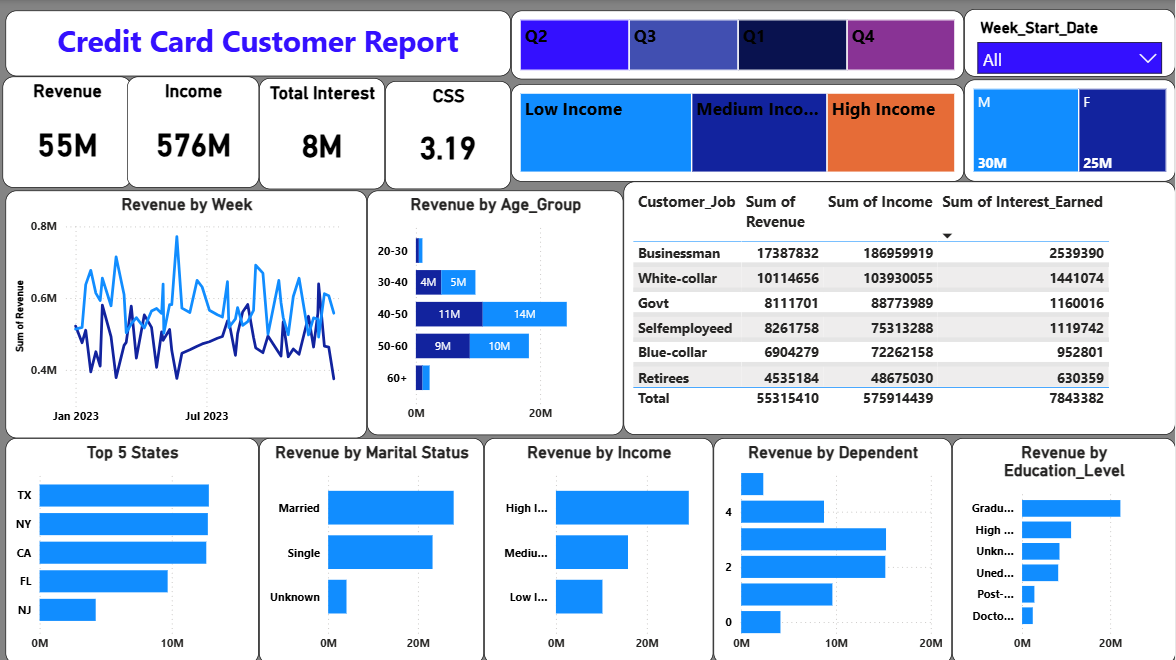

Layout of this report page (visuals, bound fields, positions):
{"tool":"powerbi","page":{"name":"CC Customer","canvas":[1280,720],"ordinal":2},"visuals":[{"type":"barChart","title":"Revenue by Income","fields":{"Y":["Sum(cc_detail_Staging1.Revenue)"],"Category":["cust_detail.Income Group"]},"box":[530.3,475,248.9,245.6],"z":0},{"type":"barChart","title":"Revenue by Age_Group","fields":{"Y":["Sum(cc_detail_Staging1.Revenue)"],"Category":["cust_detail.Age Group"],"Series":["cust_detail.Gender"]},"box":[403.4,206.6,278.1,265.1],"z":1000},{"type":"card","title":"Revenue","fields":{"Values":["Sum(cc_detail_Staging1.Revenue)"]},"box":[8.1,83,139.9,120.4],"z":2000},{"type":"card","title":"Income","fields":{"Values":["Sum(cust_detail.Income)"]},"box":[143.1,83,143.1,120.4],"z":3000},{"type":"card","title":"Total Interest","fields":{"Values":["Sum(cc_detail_Staging1.Interest_Earned)"]},"box":[286.3,84.6,136.6,120.4],"z":4000},{"type":"card","title":"CSS","fields":{"Values":["Avg(cust_detail.Cust_Satisfaction_Score)"]},"box":[422.9,87.8,136.6,117.1],"z":5000},{"type":"slicer","fields":{"Values":["cc_detail_Staging1.Week_Start_Date"]},"box":[1050.7,9.8,229.3,73.2],"z":6000},{"type":"treemap","fields":{"Group":["cc_detail_Staging1.Qtr"],"Values":["CountNonNull(cc_detail_Staging1.Client_Num)"]},"box":[559.5,11.4,491.2,74.8],"z":7000},{"type":"treemap","fields":{"Group":["cust_detail.Income Group"],"Values":["CountNonNull(cc_detail_Staging1.Client_Num)"]},"box":[559.5,91.1,491.2,105.7],"z":9000},{"type":"textbox","box":[11.4,11.4,548.1,71.6],"z":10000},{"type":"tableEx","fields":{"Values":["cust_detail.Customer_Job","Sum(cc_detail_Staging1.Revenue)","Sum(cust_detail.Income)","Sum(cc_detail_Staging1.Interest_Earned)"]},"box":[681.5,196.8,598.6,274.9],"z":11000},{"type":"lineChart","title":"Revenue by Week","fields":{"Y":["Sum(cc_detail_Staging1.Revenue)"],"Series":["cust_detail.Gender"],"Category":["cc_detail_Staging1.Week_Start_Date.Variation.Date Hierarchy.Year","cc_detail_Staging1.Week_Start_Date.Variation.Date Hierarchy.Month","cc_detail_Staging1.Week_Start_Date.Variation.Date Hierarchy.Day"]},"box":[11.4,206.6,392,268.4],"z":12000},{"type":"treemap","fields":{"Group":["cust_detail.Gender"],"Values":["Sum(cc_detail_Staging1.Revenue)"]},"box":[1050.7,86.2,229.3,110.6],"z":13000},{"type":"barChart","title":"Revenue by Dependent","fields":{"Y":["Sum(cc_detail_Staging1.Revenue)"],"Category":["cust_detail.Dependent_Count"]},"box":[779.1,475,258.6,245.6],"z":14000},{"type":"barChart","title":"Revenue by Education_Level","fields":{"Y":["Sum(cc_detail_Staging1.Revenue)"],"Category":["cust_detail.Education_Level"]},"box":[1037.7,475,242.4,245.6],"z":15000},{"type":"barChart","title":"Top 5 States","fields":{"Y":["Sum(cc_detail_Staging1.Revenue)"],"Category":["cust_detail.State_cd"]},"box":[11.4,475,274.9,245.6],"z":16000},{"type":"barChart","title":"Revenue by Marital Status","fields":{"Y":["Sum(cc_detail_Staging1.Revenue)"],"Category":["cust_detail.Marital_Status"]},"box":[286.3,475,244,245.6],"z":17000}]}

Visuals, with their boxes in screenshot pixels (x1, y1, x2, y2), scaled from the page's 1280x720 canvas onto the 1176x660 screenshot:
"Revenue by Income" barChart: [left=487, top=435, right=716, bottom=659]
"Revenue by Age_Group" barChart: [left=371, top=189, right=626, bottom=432]
"Revenue" card: [left=7, top=76, right=136, bottom=186]
"Income" card: [left=131, top=76, right=263, bottom=186]
"Total Interest" card: [left=263, top=78, right=389, bottom=188]
"CSS" card: [left=389, top=80, right=514, bottom=188]
slicer - cc_detail_Staging1.Week_Start_Date: [left=965, top=9, right=1175, bottom=76]
treemap - cc_detail_Staging1.Qtr x CountNonNull(cc_detail_Staging1.Client_Num): [left=514, top=10, right=965, bottom=79]
treemap - cust_detail.Income Group x CountNonNull(cc_detail_Staging1.Client_Num): [left=514, top=84, right=965, bottom=180]
textbox: [left=10, top=10, right=514, bottom=76]
tableEx - cust_detail.Customer_Job x Sum(cc_detail_Staging1.Revenue): [left=626, top=180, right=1175, bottom=432]
"Revenue by Week" lineChart: [left=10, top=189, right=371, bottom=435]
treemap - cust_detail.Gender x Sum(cc_detail_Staging1.Revenue): [left=965, top=79, right=1175, bottom=180]
"Revenue by Dependent" barChart: [left=716, top=435, right=953, bottom=659]
"Revenue by Education_Level" barChart: [left=953, top=435, right=1175, bottom=659]
"Top 5 States" barChart: [left=10, top=435, right=263, bottom=659]
"Revenue by Marital Status" barChart: [left=263, top=435, right=487, bottom=659]
